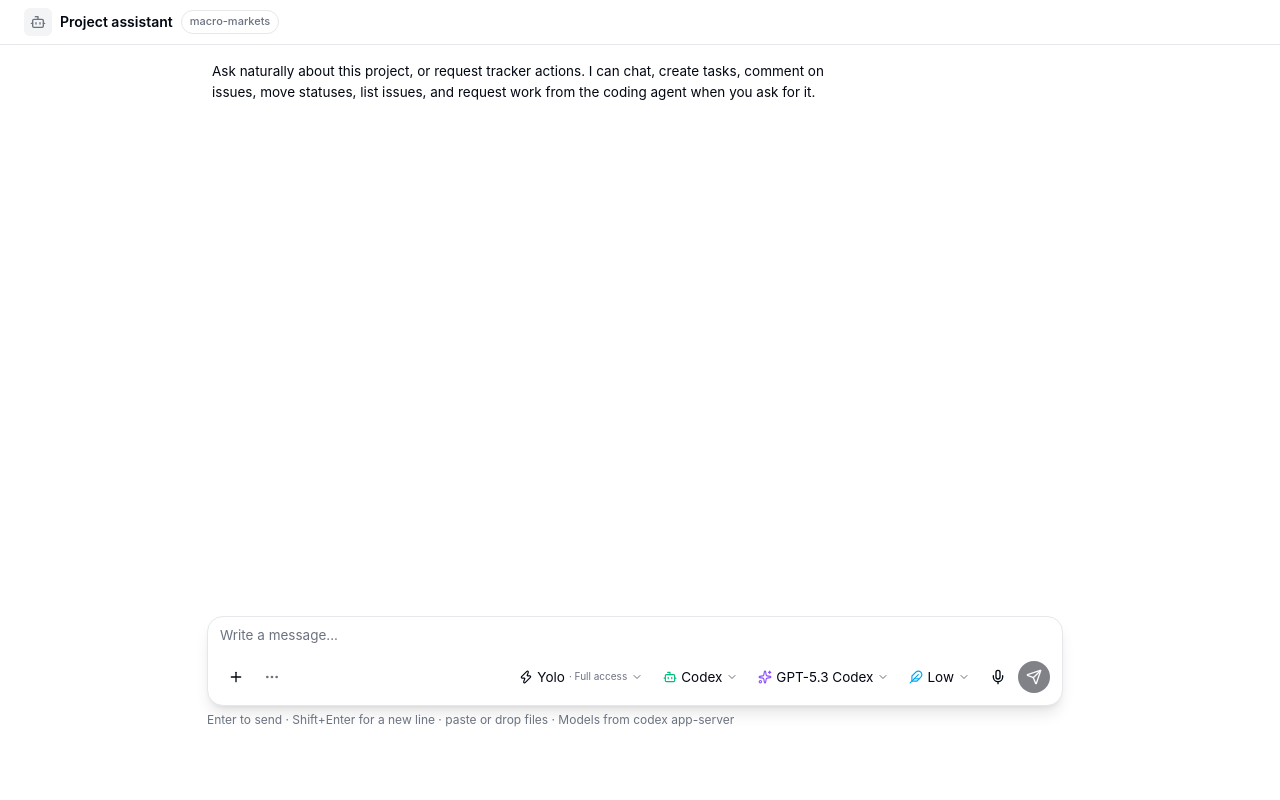
Test: ProjectAssistantPanel › shows Yolo by default on project authoring and still enables issue @-mentions
Check: the button with test id "execution-mode-menu" shows "Yolo", box [511, 661, 651, 693]
Type "@mac" into the text box with placeholder "Write a message..." at (635, 639), box [208, 617, 1062, 661]
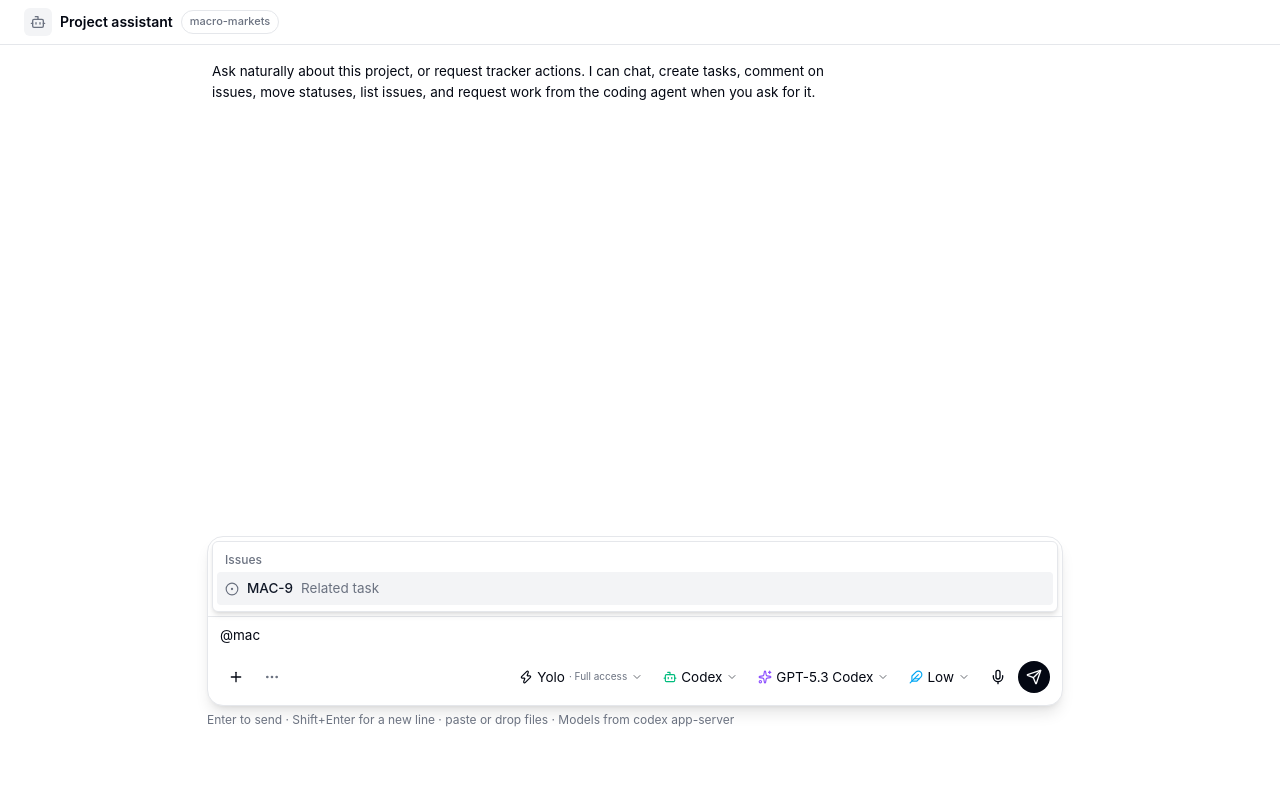
Check: the list is shown, box [212, 541, 1058, 612]
Check: the text "Related task" is shown, box [301, 578, 379, 599]
